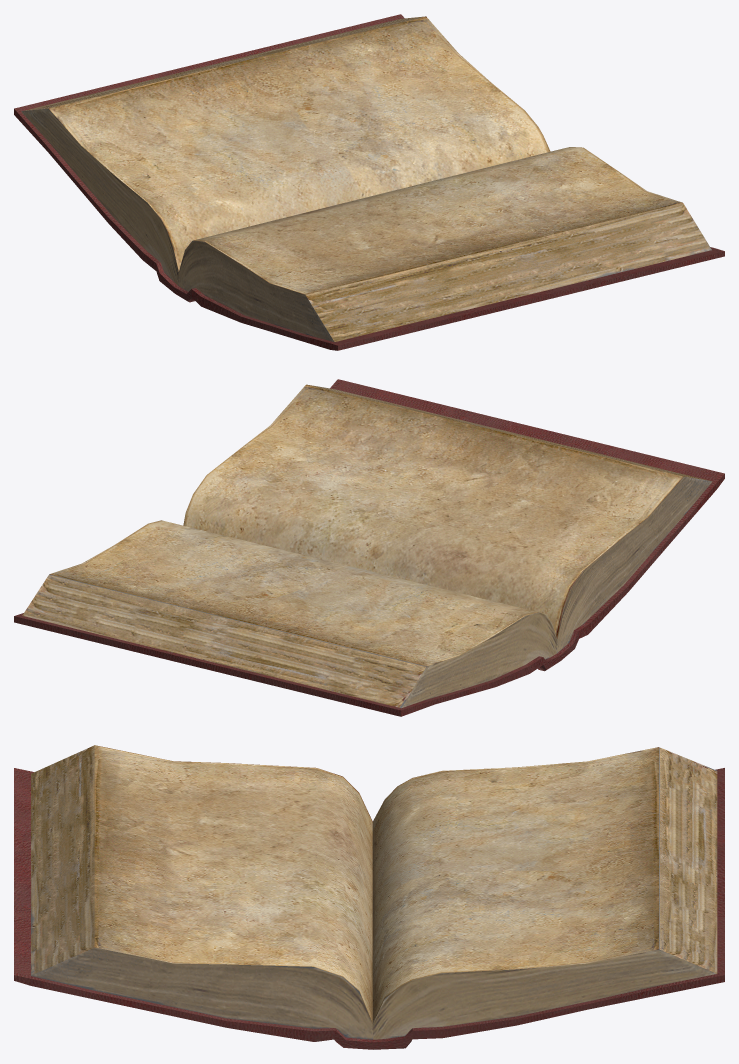
The model's file is Open_Book.fbx.
3 views of the same model, one above another, from view 1: azimuth 30°, elevation 25°; view 2: azimuth 150°, elevation 25°; view 3: azimuth 270°, elevation 25° (orthographic). The views are drawn at different scales.
Parts seen in each view (by area): view 1: Open_Book; view 2: Open_Book; view 3: Open_Book.
Part boxes in pixels (bbox=[...]): Open_Book: bbox=[14, 14, 724, 350]; Open_Book: bbox=[14, 379, 724, 716]; Open_Book: bbox=[14, 745, 724, 1049].
Size of the model in its own units: 85.69 by 19.4 by 124.
Materials: 1 (1 with a texture image).
